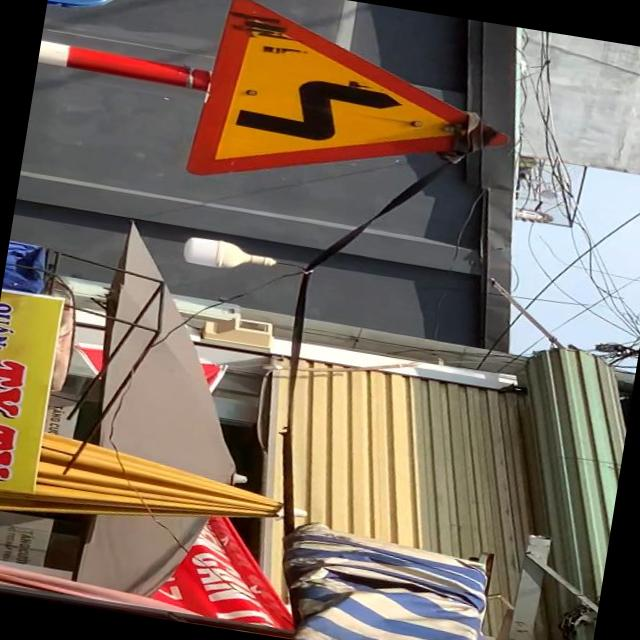W-202a: (185, 0, 528, 222)
